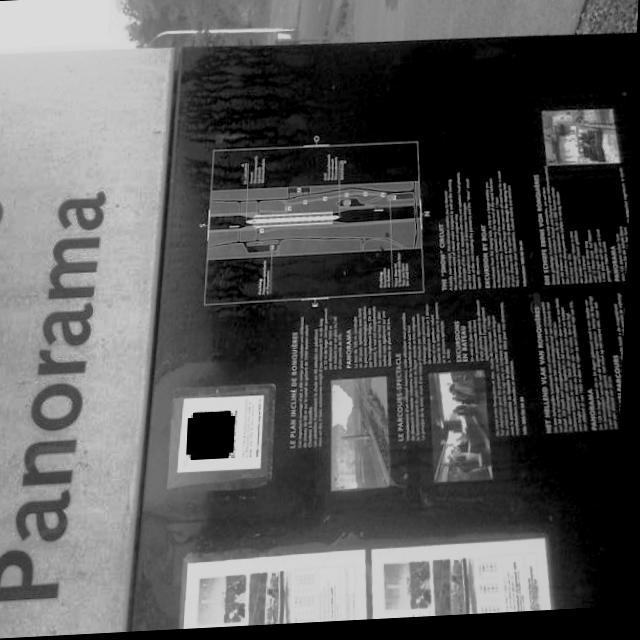qr_code: (194, 415, 237, 459)
